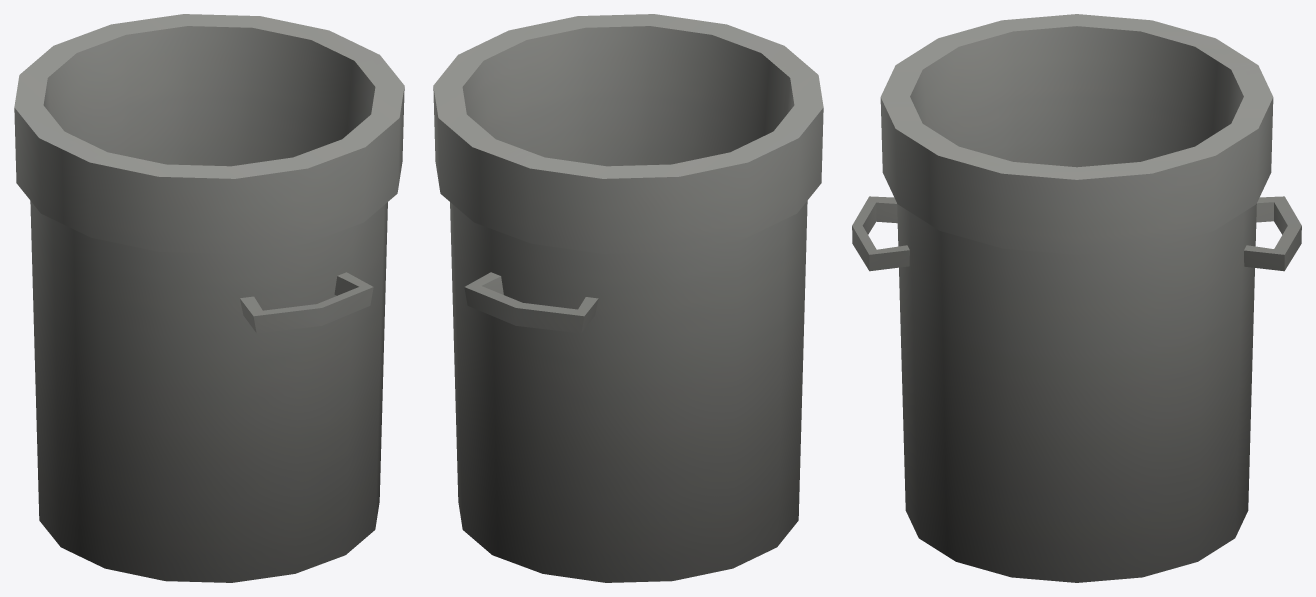
Rendered from Medium_trashcan.fbx.
The picture shows the model from 3 angles, left to right: view 1: azimuth 30°, elevation 25°; view 2: azimuth 150°, elevation 25°; view 3: azimuth 270°, elevation 25°; orthographic projection.
Visible parts, largest first — view 1: Medium_trashcan; view 2: Medium_trashcan; view 3: Medium_trashcan.
Boxes of the visible parts, left/top/right/bottom form: Medium_trashcan: left=14, top=14, right=404, bottom=582; Medium_trashcan: left=433, top=14, right=823, bottom=582; Medium_trashcan: left=852, top=14, right=1301, bottom=582.
Bounding box in the file's own units: 68.79 × 80 × 78.78.
